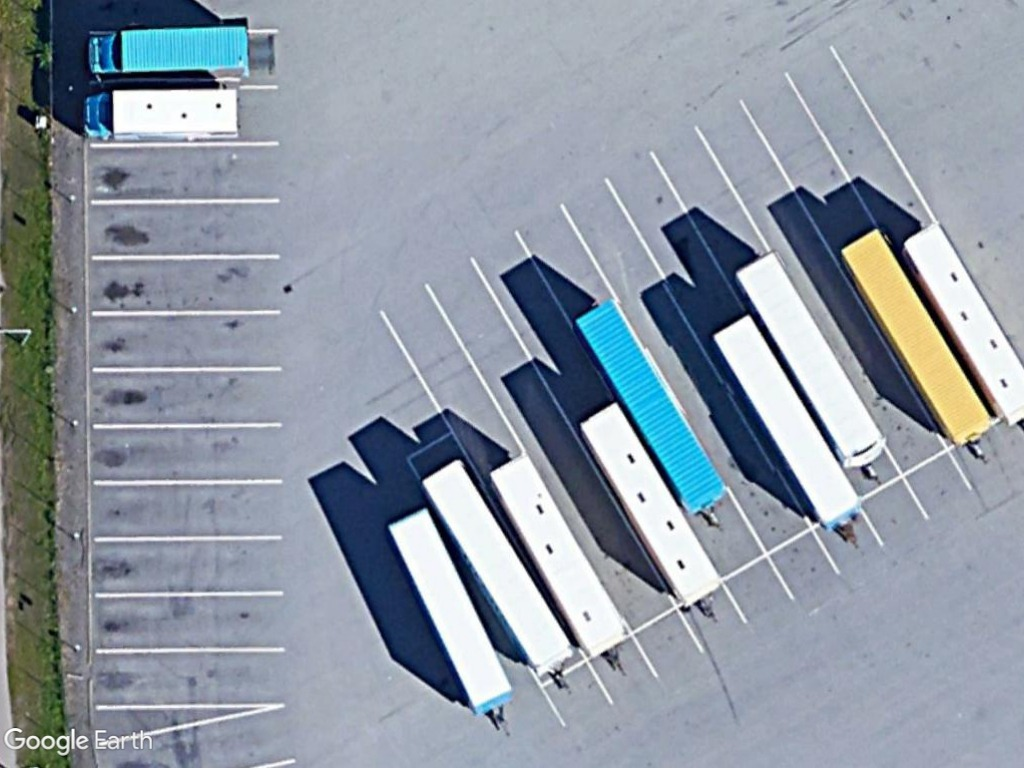truck: (82, 17, 252, 91), (78, 80, 247, 143)
